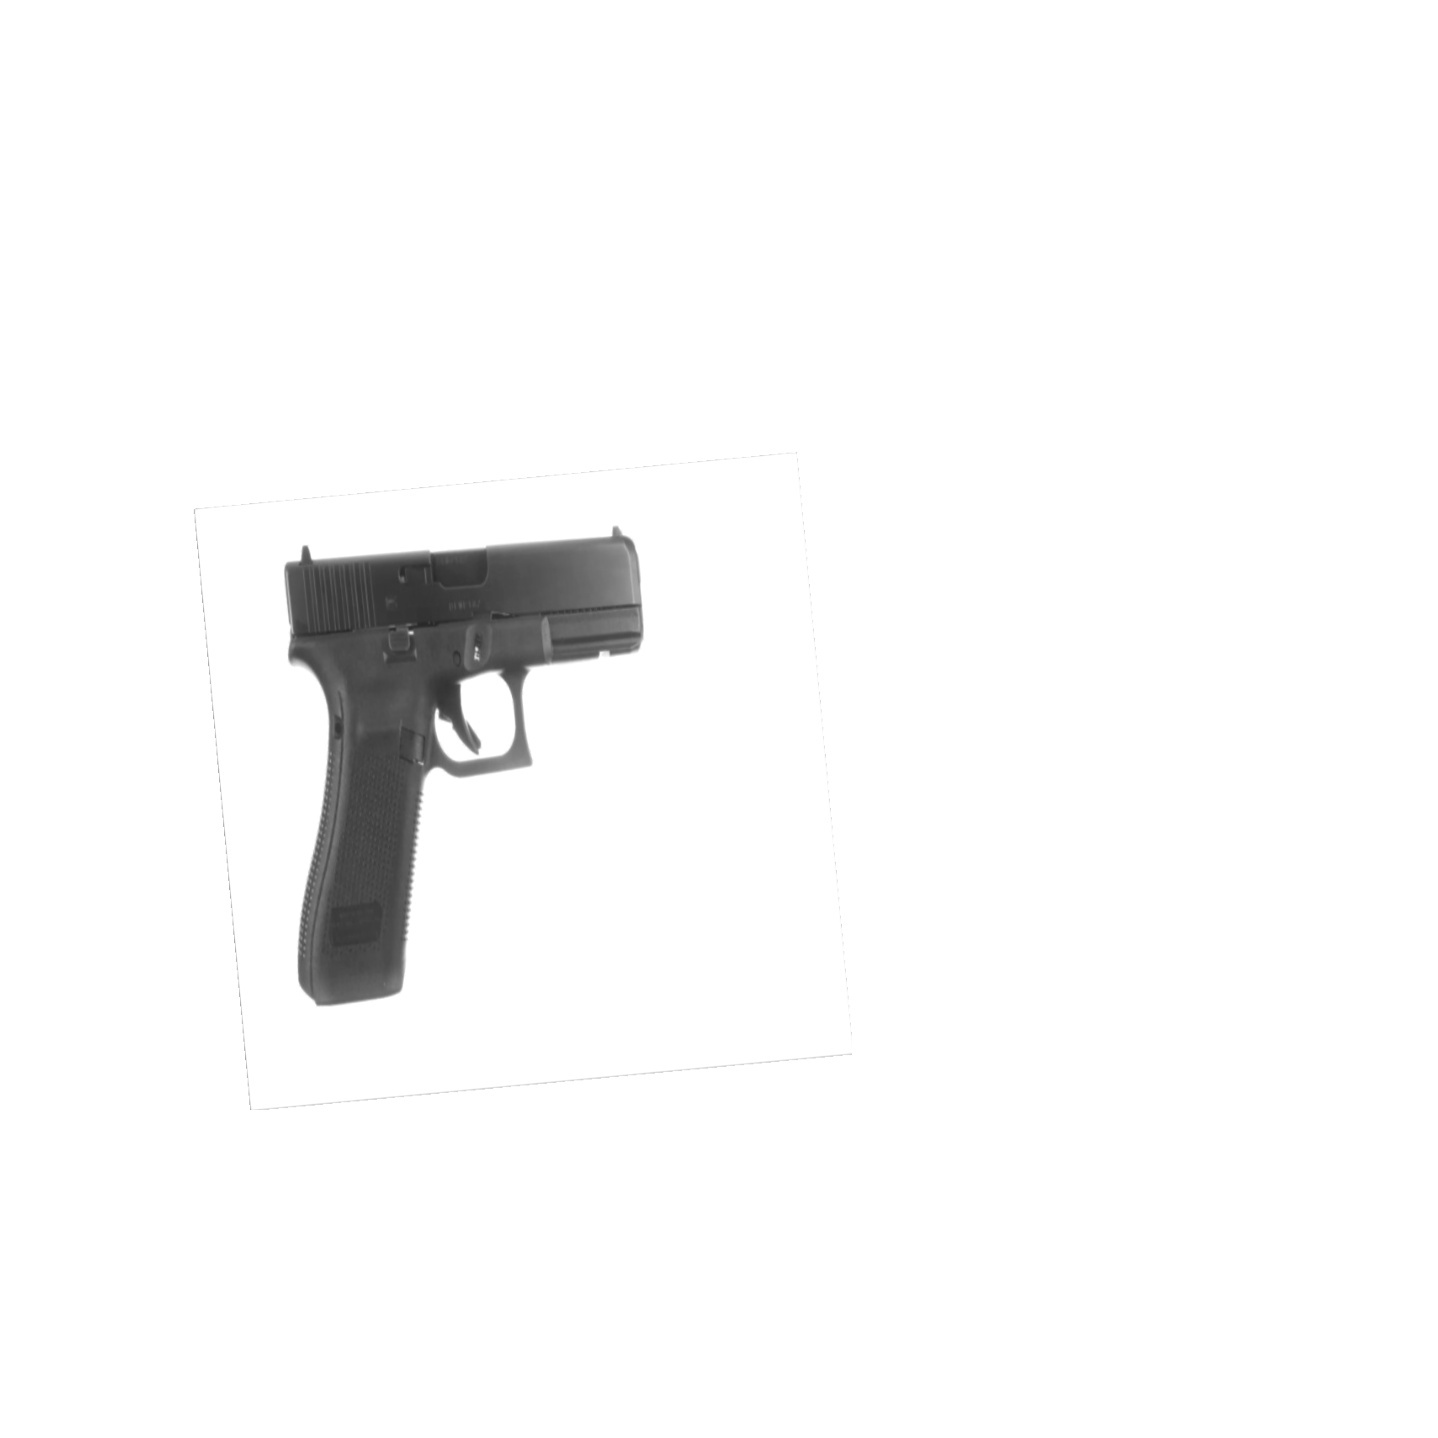gun: (273, 527, 654, 1010)
